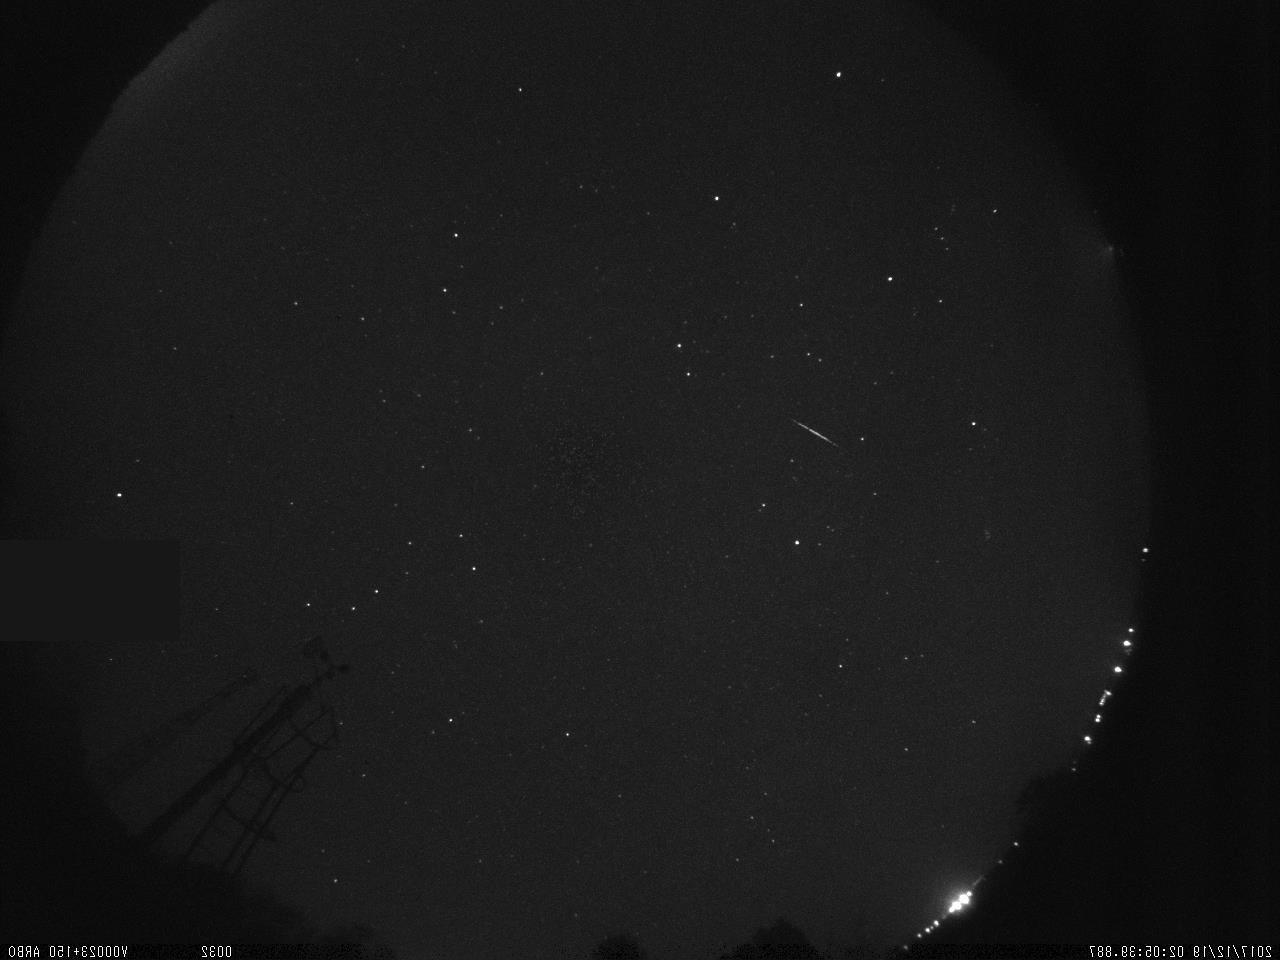meteor: (750, 403, 864, 458)
